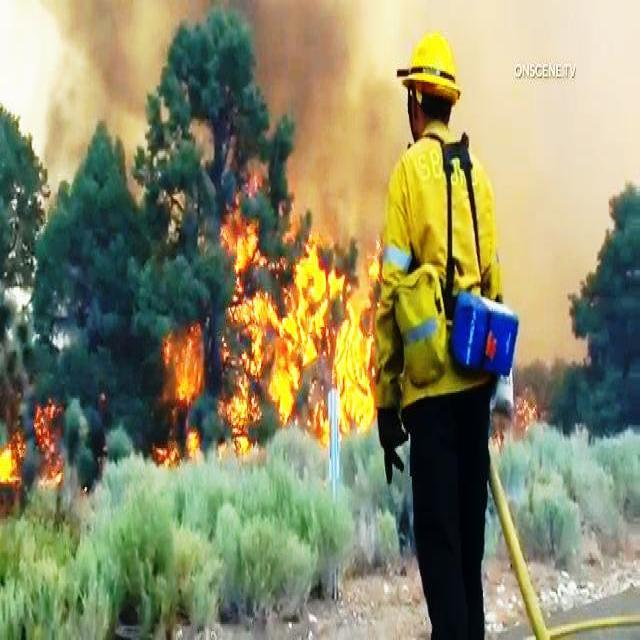Fire: (229, 207, 367, 442), (0, 404, 51, 496), (168, 336, 212, 412)
Smoke: (265, 10, 394, 138), (23, 2, 144, 121), (520, 114, 576, 233)
